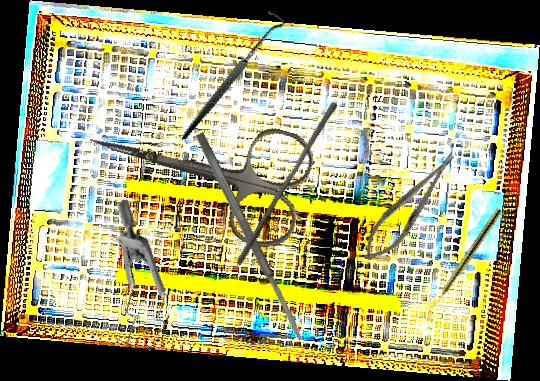Handpiece: (427, 206, 504, 313)
Hook Surgical: (148, 7, 312, 140)
Iris Scissors: (73, 79, 320, 256)
Needle Holder: (353, 144, 467, 270)
Pusher: (234, 97, 339, 271)
Spatula Surgical: (194, 131, 306, 343)
Speculum: (50, 197, 214, 367)
